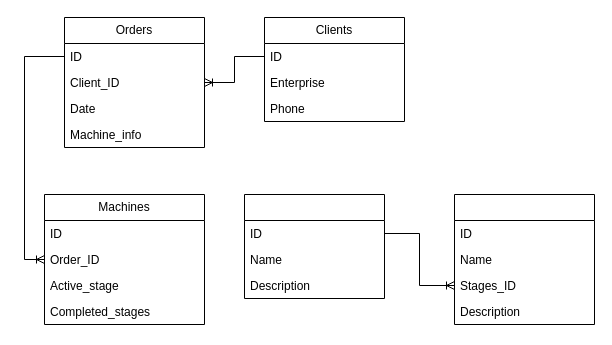
Image size: 612x345. Some labels were removed from this diagram. The box of each missing label's shape, as (x1, y1, x2, y2) in pixels:
Stages: (244, 194, 384, 298)
Workshops: (454, 194, 594, 324)
